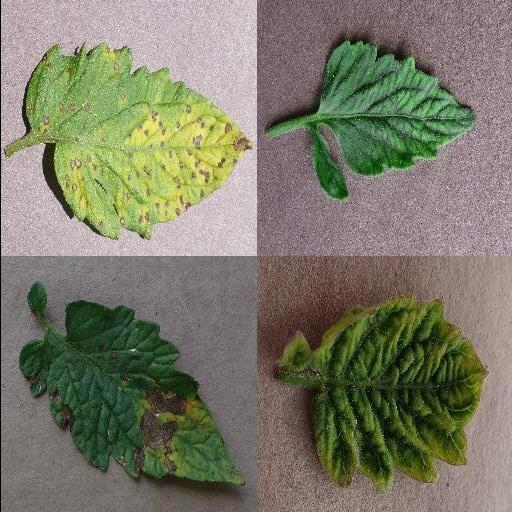Early Blight: (20, 300, 244, 486)
Mosaic Virus: (308, 36, 478, 202)
Septoria: (22, 42, 252, 240)
Yellow Leaf Curl Virus: (306, 294, 492, 488)
